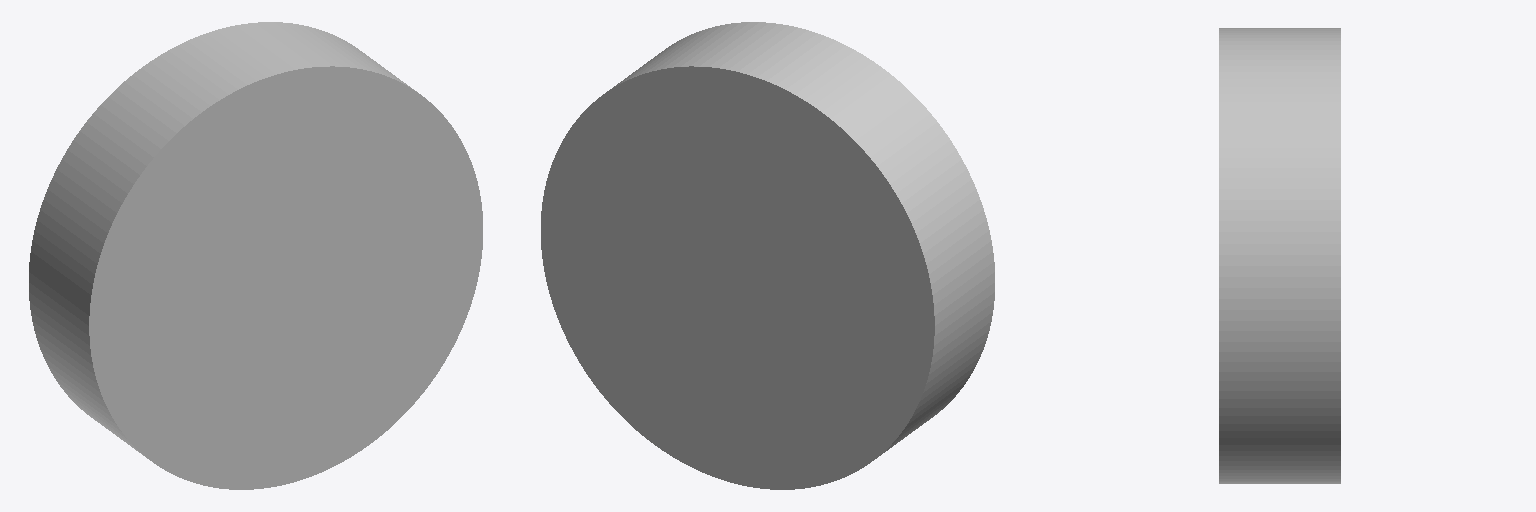
The model's file is cil.obj.
3 renders of one model, left to right at view 1: azimuth 30°, elevation 25°; view 2: azimuth 150°, elevation 25°; view 3: azimuth 270°, elevation 25°, orthographic.
Visible parts, largest first — view 1: Cylinder.001, Cylinder; view 2: Cylinder.002, Cylinder; view 3: Cylinder.
Boxes of the visible parts, x1,y1,x2,y2 form: Cylinder.001: [89, 66, 482, 489]; Cylinder: [29, 22, 416, 458]; Cylinder.002: [541, 66, 934, 489]; Cylinder: [607, 22, 994, 458]; Cylinder: [1219, 28, 1340, 483].
Bounding box in the file's own units: 15 × 15 × 4.